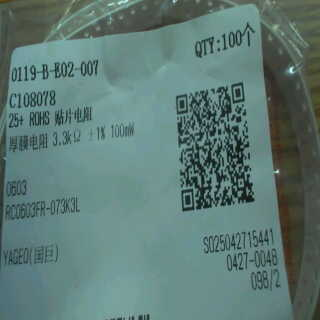3.3kO: (49, 125, 82, 152)
